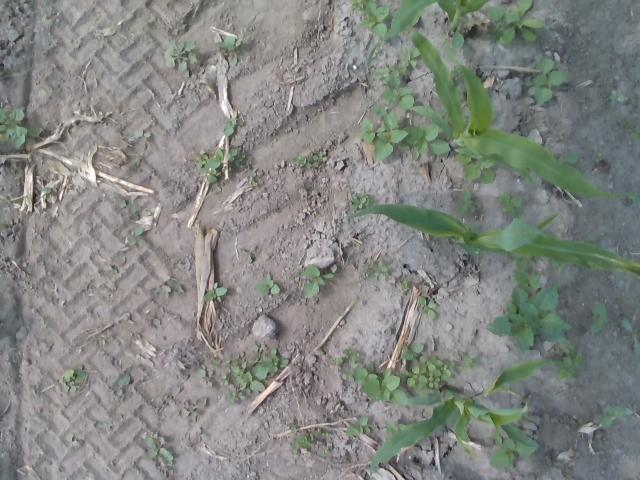Maize: (405, 26, 639, 202), (368, 358, 560, 480), (340, 203, 640, 281), (364, 0, 492, 72)
Weeds: (354, 102, 452, 162), (487, 284, 570, 353), (398, 342, 454, 399), (374, 46, 420, 110), (211, 352, 265, 404), (350, 360, 410, 406), (486, 0, 544, 45), (524, 56, 568, 105), (0, 106, 42, 150), (196, 147, 246, 183), (350, 0, 390, 39), (248, 341, 290, 378), (163, 38, 199, 78), (453, 152, 498, 184), (508, 250, 540, 294), (290, 423, 330, 456), (551, 340, 583, 379), (300, 263, 332, 301), (484, 433, 515, 470), (213, 32, 245, 66), (618, 315, 640, 358), (144, 435, 174, 466), (146, 275, 183, 299), (594, 404, 628, 428), (358, 256, 388, 282), (112, 194, 140, 221), (60, 363, 86, 391), (498, 192, 524, 220), (290, 150, 328, 168), (588, 300, 608, 334), (454, 188, 476, 216), (416, 296, 438, 322), (254, 274, 280, 296), (343, 416, 370, 436), (182, 399, 206, 421), (454, 348, 478, 370), (220, 114, 244, 136), (350, 191, 377, 210), (109, 372, 130, 396), (383, 421, 407, 440), (203, 282, 227, 301), (134, 129, 154, 150), (196, 368, 213, 389), (343, 348, 360, 366), (128, 227, 144, 246), (624, 120, 640, 138), (558, 152, 578, 166), (550, 259, 567, 274), (609, 89, 626, 104), (128, 158, 142, 173), (41, 182, 58, 194), (102, 264, 119, 275), (247, 172, 260, 186), (40, 14, 54, 26), (196, 428, 207, 442), (400, 278, 412, 290), (330, 356, 344, 365), (340, 368, 350, 380), (244, 250, 252, 263), (617, 297, 629, 304), (594, 152, 602, 162), (98, 421, 106, 428)
